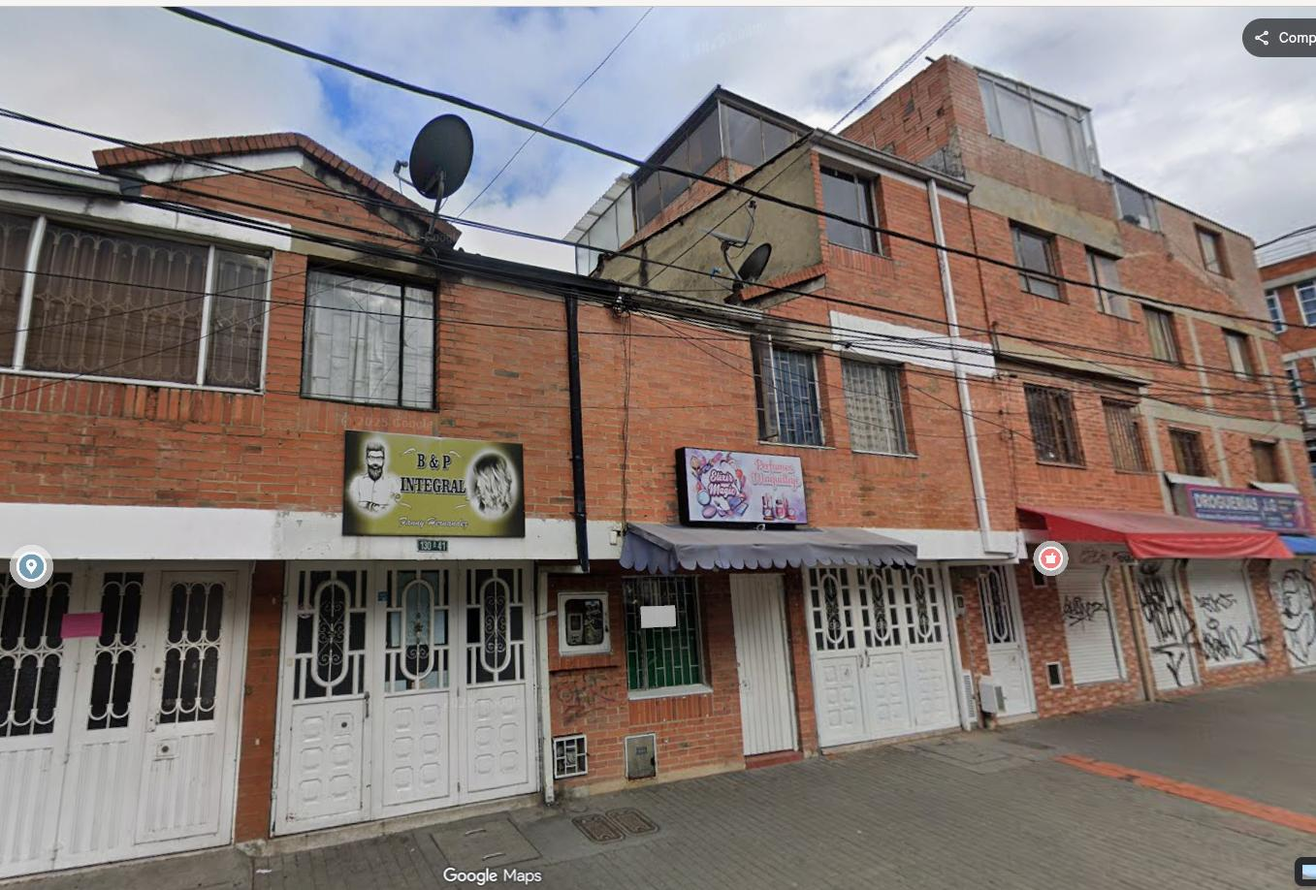casa: (0, 134, 618, 876), (549, 102, 1059, 786), (848, 56, 1315, 716)
